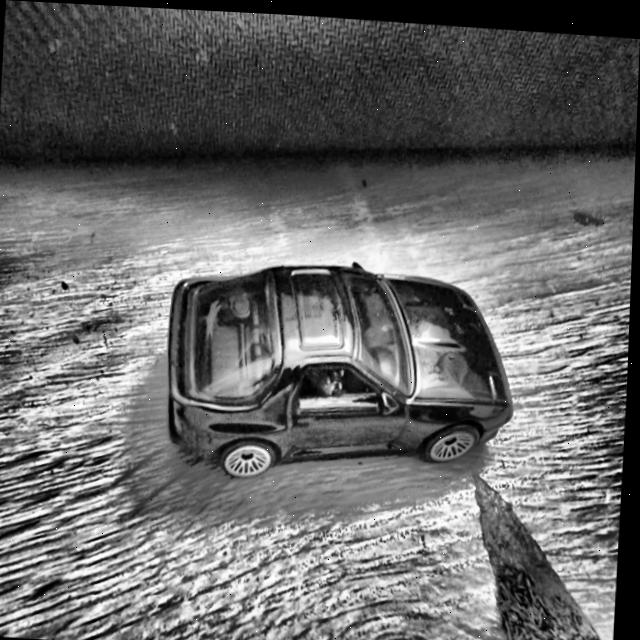car: (163, 246, 522, 491)
